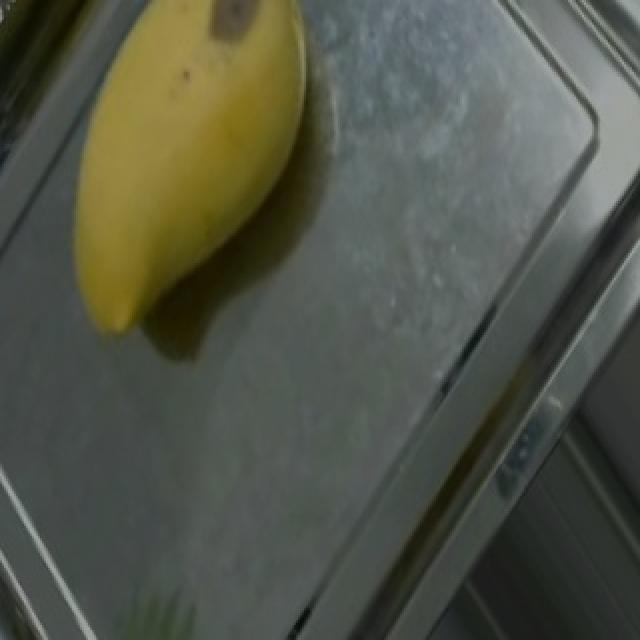fruit: (18, 0, 380, 345)
